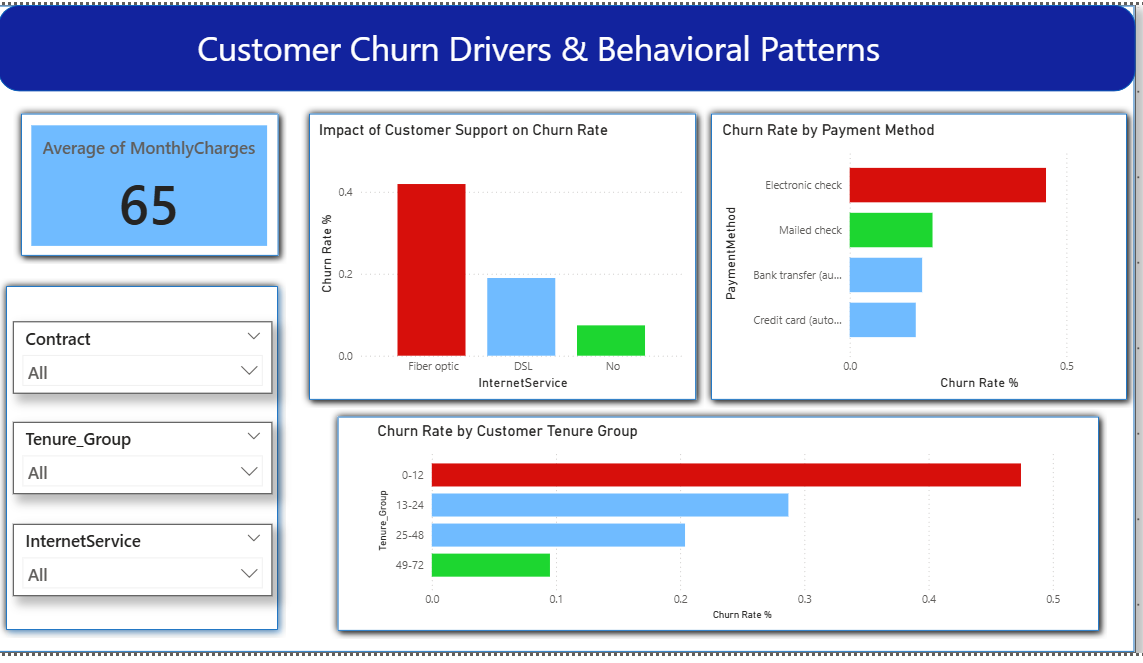

What the dashboard file says about the page in this screenshot:
{"tool":"powerbi","page":{"name":"Page 2","canvas":[1280,720],"ordinal":1},"visuals":[{"type":"shape","box":[0,0,1264,720],"z":0},{"type":"shape","box":[0,0,1264,96],"z":1000},{"type":"shape","box":[336,112,448,336],"z":2000},{"type":"shape","box":[784,112,480,336],"z":3000},{"type":"clusteredColumnChart","title":"Impact of Customer Support on Churn Rate","fields":{"Category":["WA_Fn-UseC_-Telco-Customer-Chur.InternetService"],"Y":["WA_Fn-UseC_-Telco-Customer-Chur.Churn Rate %"]},"box":[352,128,416,304],"z":4000},{"type":"clusteredBarChart","title":"Churn Rate by Payment Method","fields":{"Category":["WA_Fn-UseC_-Telco-Customer-Chur.PaymentMethod"],"Y":["WA_Fn-UseC_-Telco-Customer-Chur.Churn Rate %"]},"box":[800,128,448,304],"z":5000},{"type":"shape","box":[0,304,320,400],"z":6000},{"type":"slicer","fields":{"Values":["WA_Fn-UseC_-Telco-Customer-Chur.Contract"]},"box":[16,352,288,80],"z":7000},{"type":"slicer","fields":{"Values":["WA_Fn-UseC_-Telco-Customer-Chur.Tenure_Group"]},"box":[16,464,288,80],"z":8000},{"type":"slicer","fields":{"Values":["WA_Fn-UseC_-Telco-Customer-Chur.InternetService"]},"box":[16,576,288,80],"z":9000},{"type":"shape","box":[16,112,304,176],"z":10000},{"type":"shape","box":[368,448,864,256],"z":11000},{"type":"barChart","title":"Churn Rate by Customer Tenure Group","fields":{"Y":["WA_Fn-UseC_-Telco-Customer-Chur.Churn Rate %"],"Category":["WA_Fn-UseC_-Telco-Customer-Chur.Tenure_Group"]},"box":[416,464,768,224],"z":12000},{"type":"cardVisual","fields":{"Data":["Avg(WA_Fn-UseC_-Telco-Customer-Chur.MonthlyCharges)"]},"box":[32,128,272,144],"z":13000},{"type":"textbox","box":[96,16,1008,80],"z":14000}]}

Visuals, with their boxes on the page's 1280x720 design canvas (x1, y1, x2, y2). These are canvas units, not pixel positions in the 1143x663 screenshot, which may show the page scaled, cropped or inside an application window:
shape: crop(0, 0, 1264, 720)
shape: crop(0, 0, 1264, 96)
shape: crop(336, 112, 784, 448)
shape: crop(784, 112, 1264, 448)
"Impact of Customer Support on Churn Rate" clusteredColumnChart: crop(352, 128, 768, 432)
"Churn Rate by Payment Method" clusteredBarChart: crop(800, 128, 1248, 432)
shape: crop(0, 304, 320, 704)
slicer - WA_Fn-UseC_-Telco-Customer-Chur.Contract: crop(16, 352, 304, 432)
slicer - WA_Fn-UseC_-Telco-Customer-Chur.Tenure_Group: crop(16, 464, 304, 544)
slicer - WA_Fn-UseC_-Telco-Customer-Chur.InternetService: crop(16, 576, 304, 656)
shape: crop(16, 112, 320, 288)
shape: crop(368, 448, 1232, 704)
"Churn Rate by Customer Tenure Group" barChart: crop(416, 464, 1184, 688)
cardVisual - Avg(WA_Fn-UseC_-Telco-Customer-Chur.MonthlyCharges): crop(32, 128, 304, 272)
textbox: crop(96, 16, 1104, 96)
